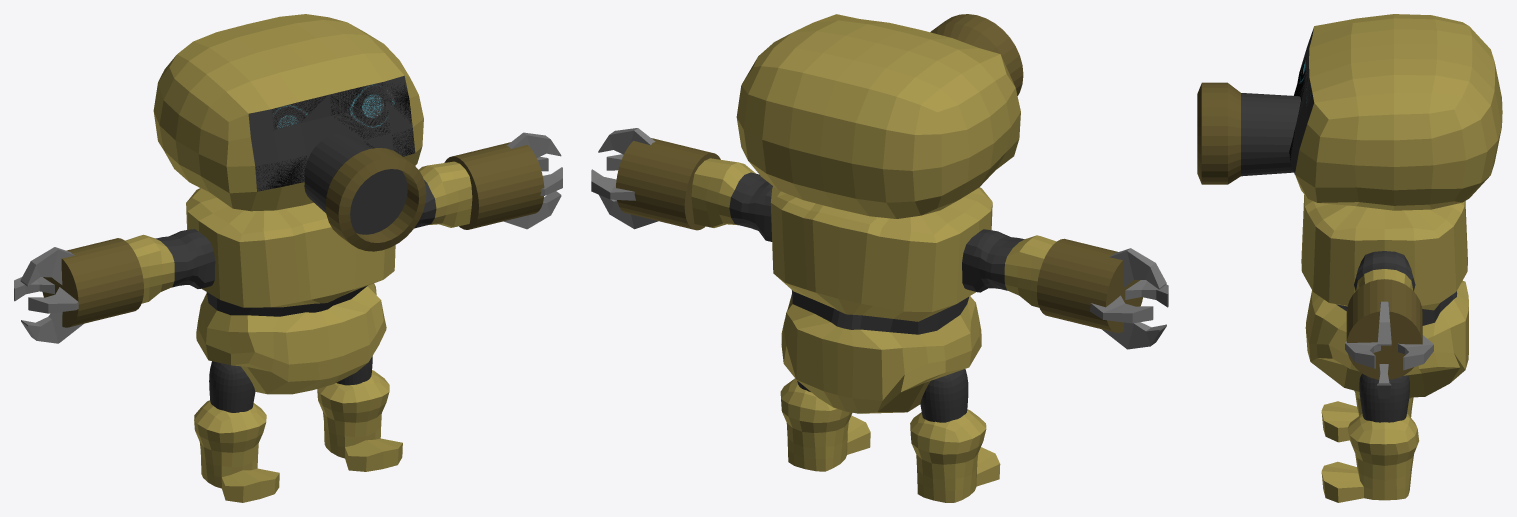
Rendered from MonsterBot4.fbx.
3 views of the same model, side by side, from view 1: azimuth 30°, elevation 25°; view 2: azimuth 150°, elevation 25°; view 3: azimuth 270°, elevation 25° (orthographic). The views are drawn at different scales.
Parts seen in each view (by area): view 1: Cube.007, Cube, Cylinder, Cube.005, Cylinder.002, Cube.004, Cylinder.001, Cube.002, Cube.016, Cube.001, Cube.006, Cube.015 (+4 smaller); view 2: Cube.007, Cube, Cylinder.002, Cube.005, Cylinder.001, Cube.004, Cube.001, Cube.002, Cylinder, Cube.006, Cube.015, Cube.012 (+5 smaller); view 3: Cube.007, Cube, Cylinder, Cube.004, Cylinder.001, Cube.003, Cube.001, Cube.005, Cube.011, Cube.009, Cube.008, Cube.010 (+1 smaller).
Part boxes in pixels (left/top/right/bottom): Cube.007: left=153, top=14, right=423, bottom=211; Cube: left=186, top=188, right=395, bottom=394; Cylinder: left=304, top=134, right=426, bottom=251; Cube.005: left=194, top=400, right=279, bottom=502; Cylinder.002: left=42, top=238, right=143, bottom=327; Cube.004: left=317, top=370, right=402, bottom=471; Cylinder.001: left=444, top=142, right=544, bottom=229; Cube.002: left=125, top=229, right=215, bottom=303; Cube.016: left=255, top=83, right=414, bottom=191; Cube.001: left=414, top=161, right=472, bottom=228; Cube.006: left=209, top=361, right=255, bottom=412; Cube.015: left=20, top=247, right=74, bottom=286; Cube.007: left=736, top=14, right=1020, bottom=218; Cube: left=770, top=186, right=992, bottom=413; Cylinder.002: left=1037, top=238, right=1142, bottom=332; Cube.005: left=910, top=409, right=1000, bottom=502; Cylinder.001: left=616, top=138, right=720, bottom=230; Cube.004: left=780, top=378, right=870, bottom=471; Cube.001: left=691, top=158, right=772, bottom=241; Cube.002: left=962, top=229, right=1056, bottom=307; Cylinder: left=930, top=14, right=1023, bottom=95; Cube.006: left=920, top=369, right=968, bottom=422; Cube.015: left=1109, top=248, right=1166, bottom=289; Cube.012: left=1090, top=295, right=1153, bottom=323; Cube.007: left=1289, top=14, right=1502, bottom=210; Cube: left=1301, top=195, right=1468, bottom=397; Cylinder: left=1197, top=82, right=1300, bottom=184; Cube.004: left=1321, top=414, right=1419, bottom=502; Cylinder.001: left=1346, top=279, right=1422, bottom=379; Cube.003: left=1359, top=373, right=1409, bottom=422; Cube.001: left=1354, top=251, right=1415, bottom=290; Cube.005: left=1321, top=390, right=1413, bottom=442; Cube.011: left=1398, top=335, right=1433, bottom=370; Cube.009: left=1345, top=341, right=1380, bottom=368; Cube.008: left=1377, top=301, right=1391, bottom=345; Cube.010: left=1377, top=364, right=1391, bottom=398.
Size of the model in its own units: 217 by 161 by 107.
Materials: 7 (1 with a texture image).
